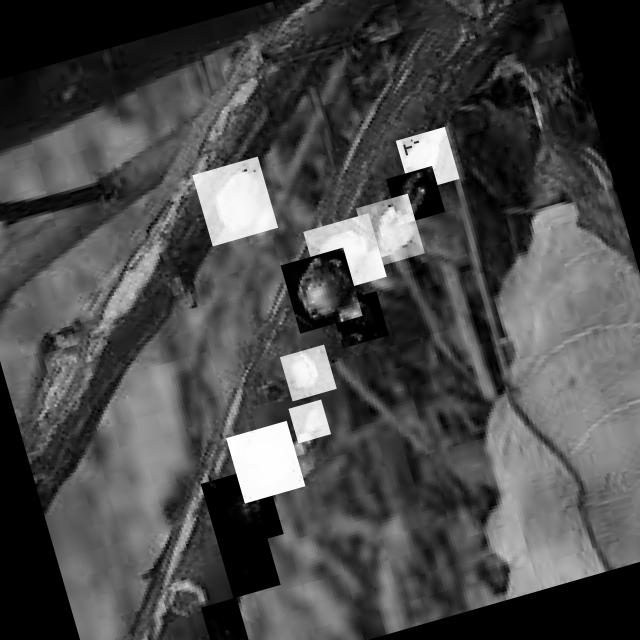scale_insect: (191, 156, 277, 246), (279, 248, 362, 334), (200, 466, 282, 552), (302, 213, 386, 295), (225, 421, 304, 504), (354, 194, 424, 268), (394, 126, 458, 192), (218, 533, 280, 598), (384, 166, 444, 224), (329, 291, 388, 348), (278, 344, 336, 401), (199, 597, 253, 640), (288, 399, 330, 443)
